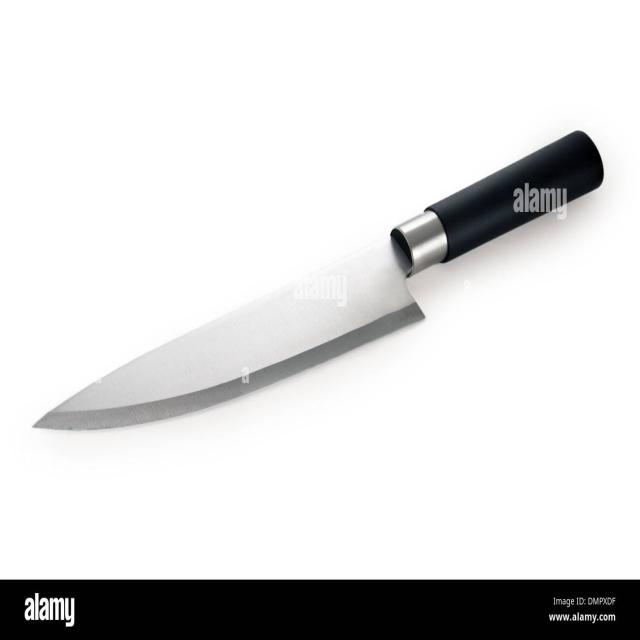Knife: (31, 127, 604, 432)
